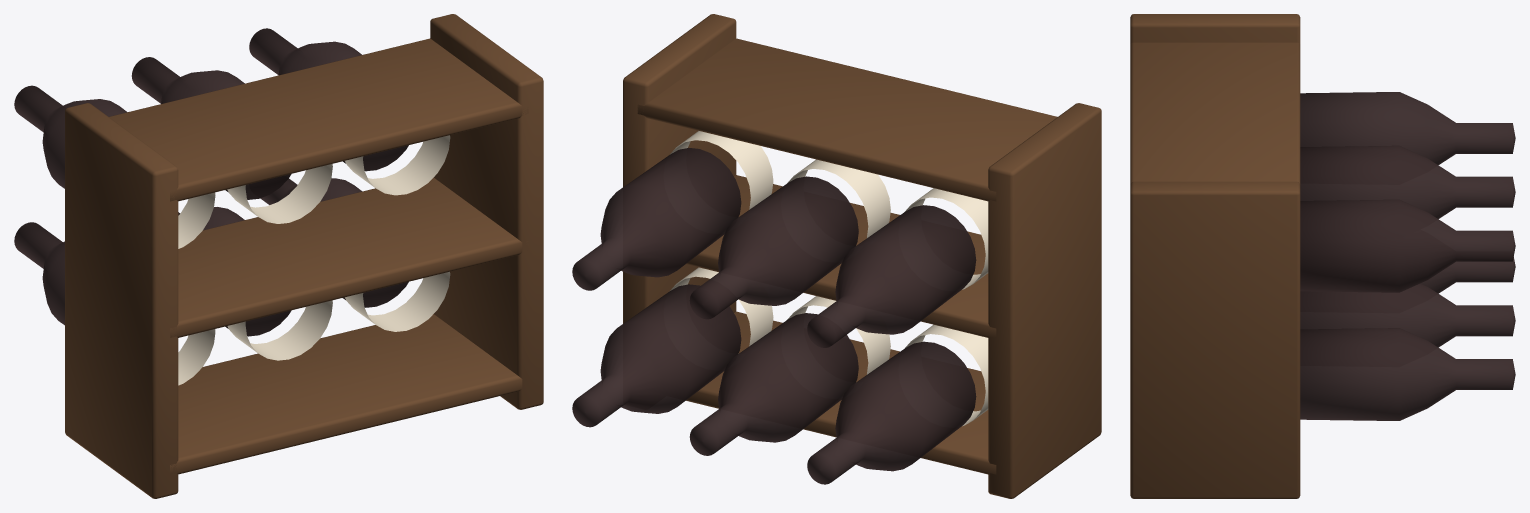
The model's file is decor-winerack.glb.
The picture shows the model from 3 angles, left to right: view 1: azimuth 30°, elevation 25°; view 2: azimuth 150°, elevation 25°; view 3: azimuth 270°, elevation 25°; orthographic projection. The views are drawn at different scales.
Visible parts, largest first — view 1: WineRack__Frame, WineRack__Bottles, WineRack__Labels; view 2: WineRack__Frame, WineRack__Bottles, WineRack__Labels; view 3: WineRack__Frame, WineRack__Bottles.
Part boxes in pixels (left/top/right/bottom): WineRack__Frame: left=65, top=14, right=543, bottom=498; WineRack__Bottles: left=14, top=28, right=408, bottom=336; WineRack__Labels: left=178, top=135, right=450, bottom=385; WineRack__Frame: left=623, top=14, right=1101, bottom=498; WineRack__Bottles: left=572, top=148, right=976, bottom=484; WineRack__Labels: left=669, top=131, right=988, bottom=426; WineRack__Frame: left=1130, top=14, right=1300, bottom=498; WineRack__Bottles: left=1300, top=92, right=1515, bottom=420.
Bounding box in the file's own units: 30 × 24 × 27.2.
